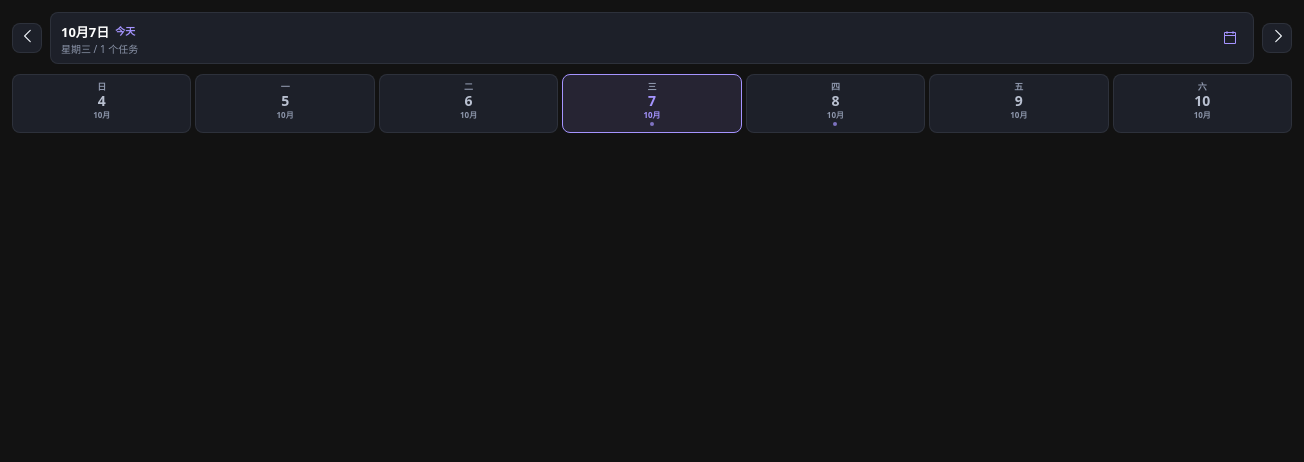
DateBar › opens the in-app calendar and selects a day
What coordinates should you click on to do the following:
click the button with test id "date-display-toggle"
I would click on:
 (85, 32)
Its box is [50, 12, 1254, 64].
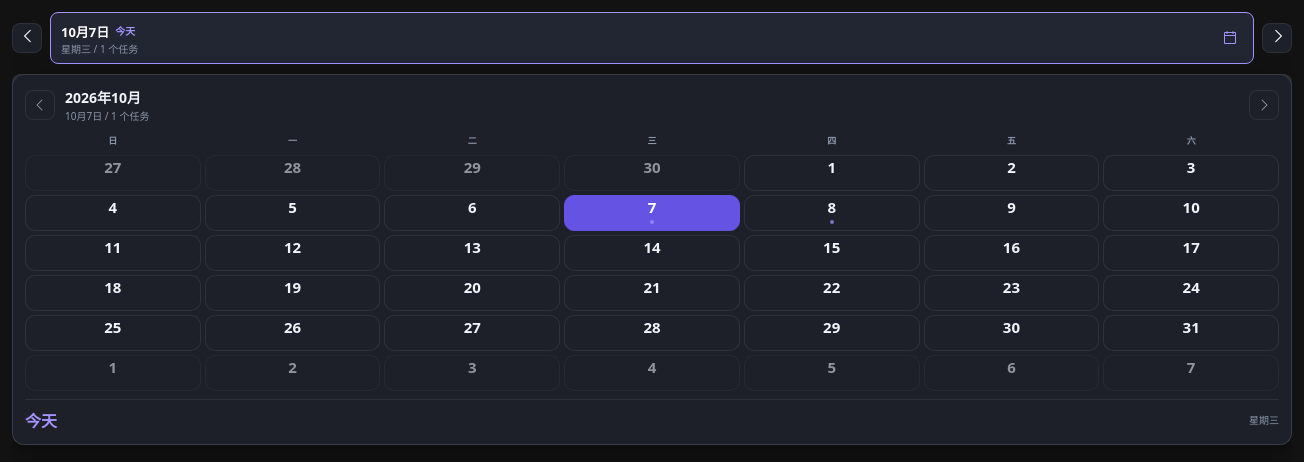
Result: the element with test id "date-calendar" is shown
What coordinates should you click on to do the following:
click the button "8"
I would click on:
 (832, 213)
Its box is [744, 195, 920, 231].
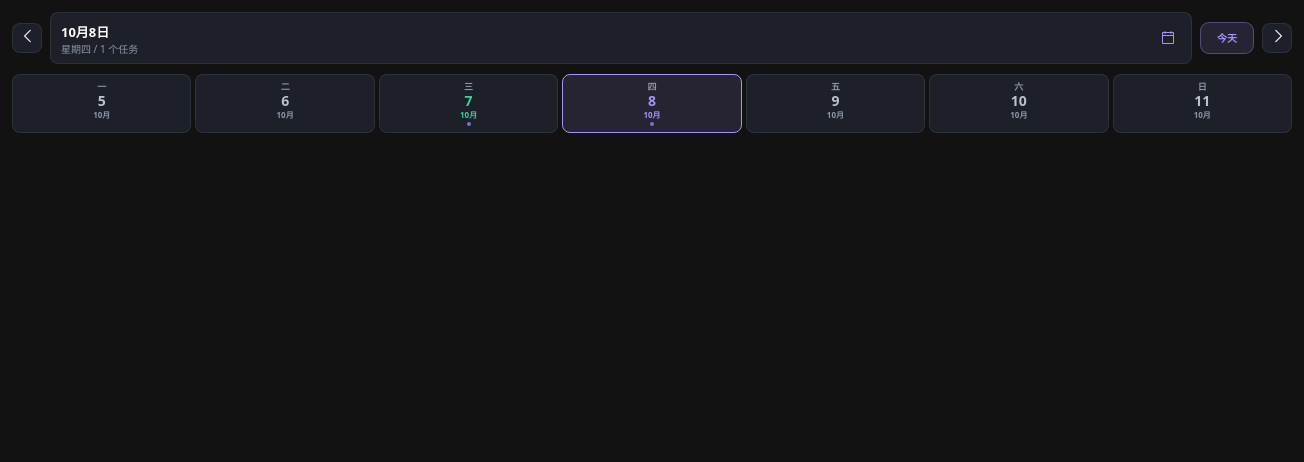
Result: the element with test id "date-calendar" is gone
